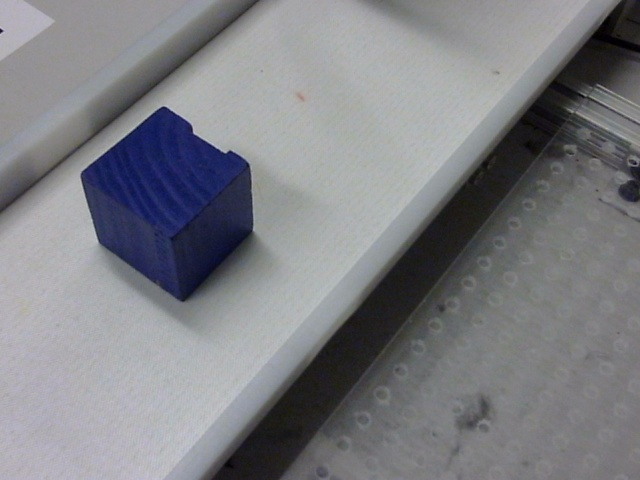BlueBlock: (80, 105, 254, 303)
